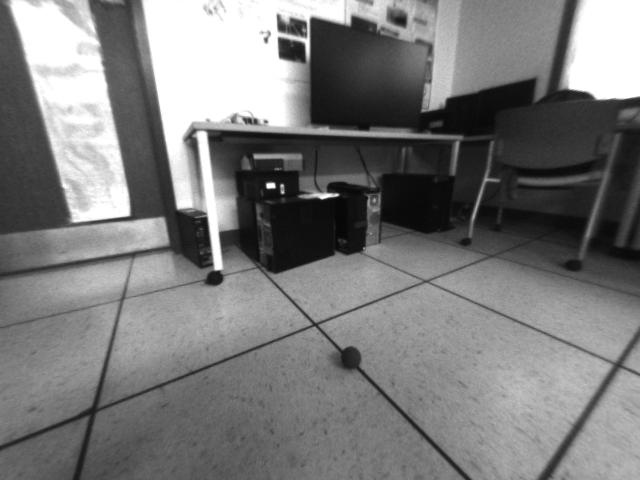dogtoy: (336, 338, 369, 375)
